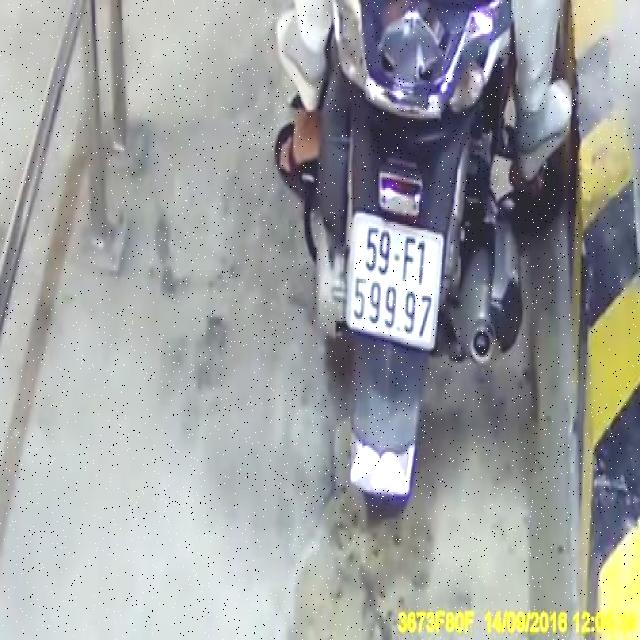1: (416, 241, 428, 287)
5: (364, 219, 379, 275), (354, 273, 366, 318)
7: (420, 289, 432, 342)
9: (369, 276, 382, 326), (379, 228, 392, 276), (384, 280, 396, 332), (404, 284, 416, 335)
F: (404, 237, 416, 285)
